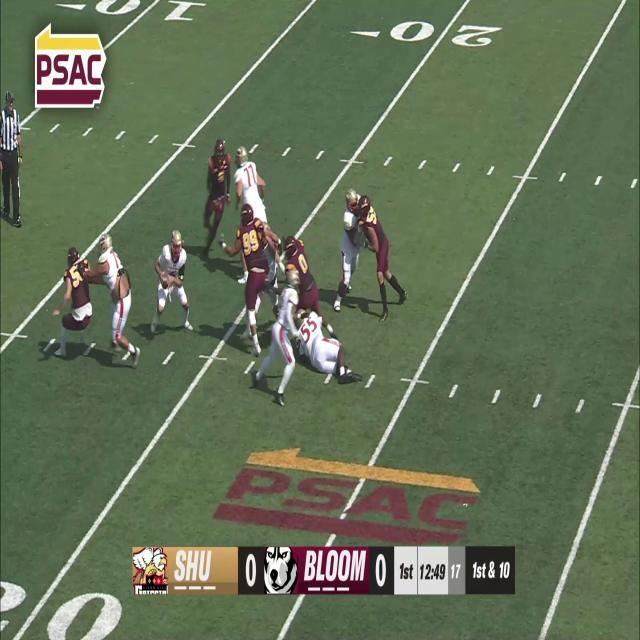football: (159, 270, 169, 289)
